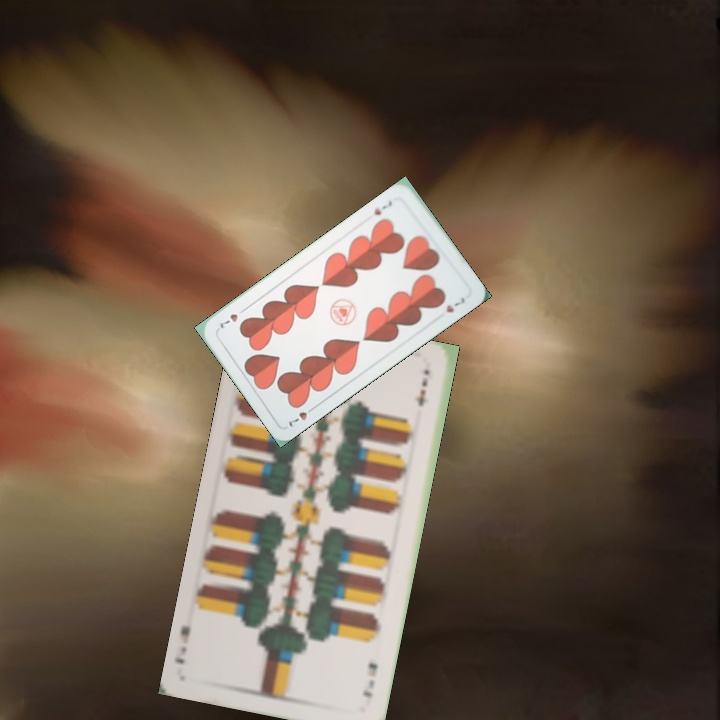E7: (358, 658, 380, 701)
H7: (285, 401, 319, 430), (370, 197, 395, 218)
